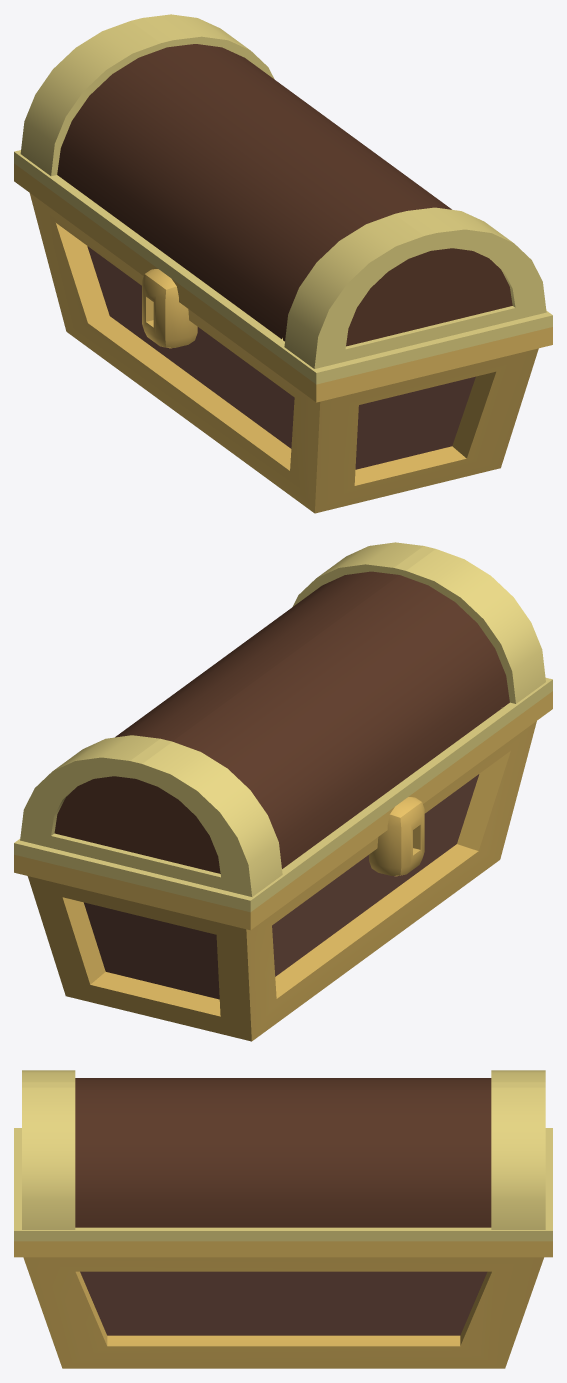
The model's file is Teasure Chest.fbx.
3 views of the same model, one above another, from view 1: azimuth 30°, elevation 25°; view 2: azimuth 150°, elevation 25°; view 3: azimuth 270°, elevation 25° (orthographic). The views are drawn at different scales.
Parts seen in each view (by area): view 1: Cube.001, Cube.002; view 2: Cube.001, Cube.002; view 3: Cube.001, Cube.002.
Boxes of the visible parts, x1=… form: Cube.001: x1=14, y1=14, x2=552, y2=384; Cube.002: x1=14, y1=163, x2=552, y2=513; Cube.001: x1=14, y1=542, x2=552, y2=912; Cube.002: x1=14, y1=691, x2=552, y2=1041; Cube.001: x1=14, y1=1070, x2=552, y2=1241; Cube.002: x1=14, y1=1241, x2=552, y2=1368.
Bounding box in the file's own units: 271 × 280 × 563.
